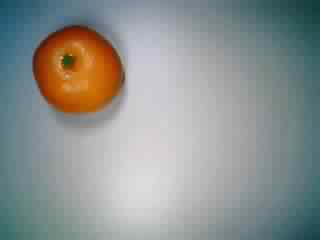orange: (32, 21, 126, 120)
